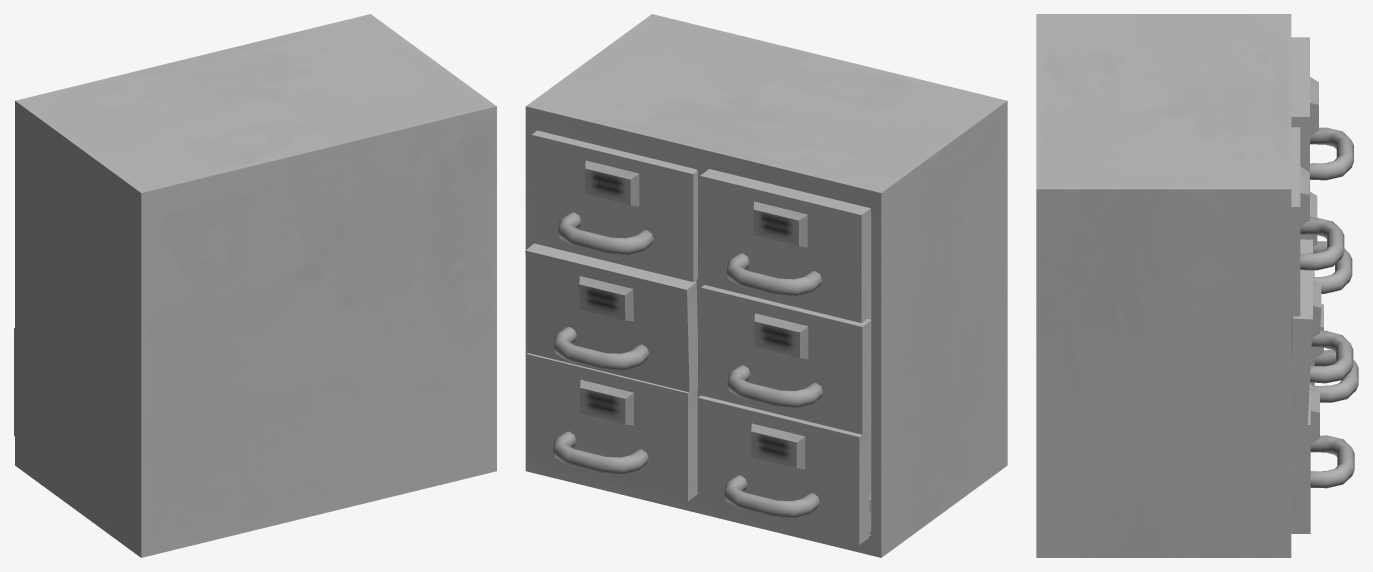
File: Pfb_FileCabient_L4__2.fbx
The picture shows the model from 3 angles, left to right: view 1: azimuth 30°, elevation 25°; view 2: azimuth 150°, elevation 25°; view 3: azimuth 270°, elevation 25°; orthographic projection.
Visible parts, largest first — view 1: Mat_FileCabient 1; view 2: Mat_FileCabient 1; view 3: Mat_FileCabient 1.
Part boxes in pixels (box(x1,y1,x2,y2)): Mat_FileCabient 1: box(14, 14, 496, 557); Mat_FileCabient 1: box(525, 14, 1007, 557); Mat_FileCabient 1: box(1036, 14, 1358, 557).
Size of the model in its own units: 1.25 by 1.23 by 0.9715.
1 material, 1 textured.
